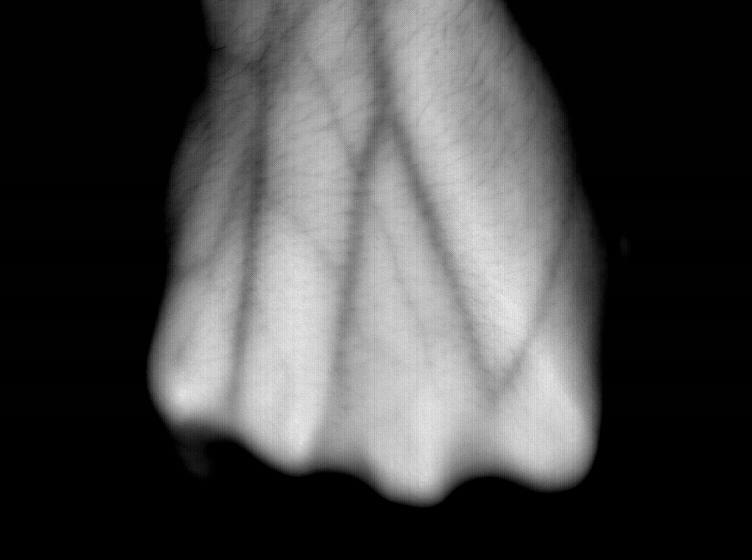Vein: (328, 32, 486, 381)
